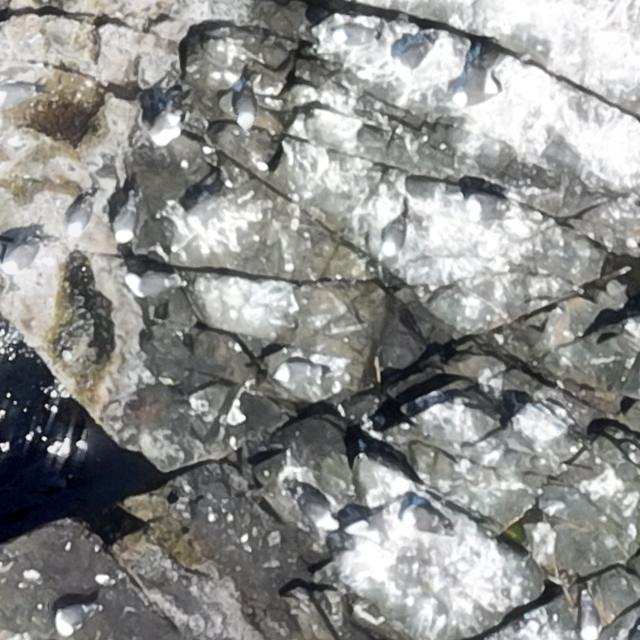umineko: (286, 478, 339, 532), (449, 69, 505, 111), (394, 499, 451, 535), (144, 99, 182, 151), (462, 184, 510, 222), (387, 38, 432, 76), (380, 208, 412, 258), (1, 240, 38, 278), (66, 194, 99, 235), (114, 192, 135, 242), (131, 274, 177, 294), (236, 86, 254, 127), (55, 606, 85, 630), (581, 601, 599, 638), (2, 88, 29, 106)
